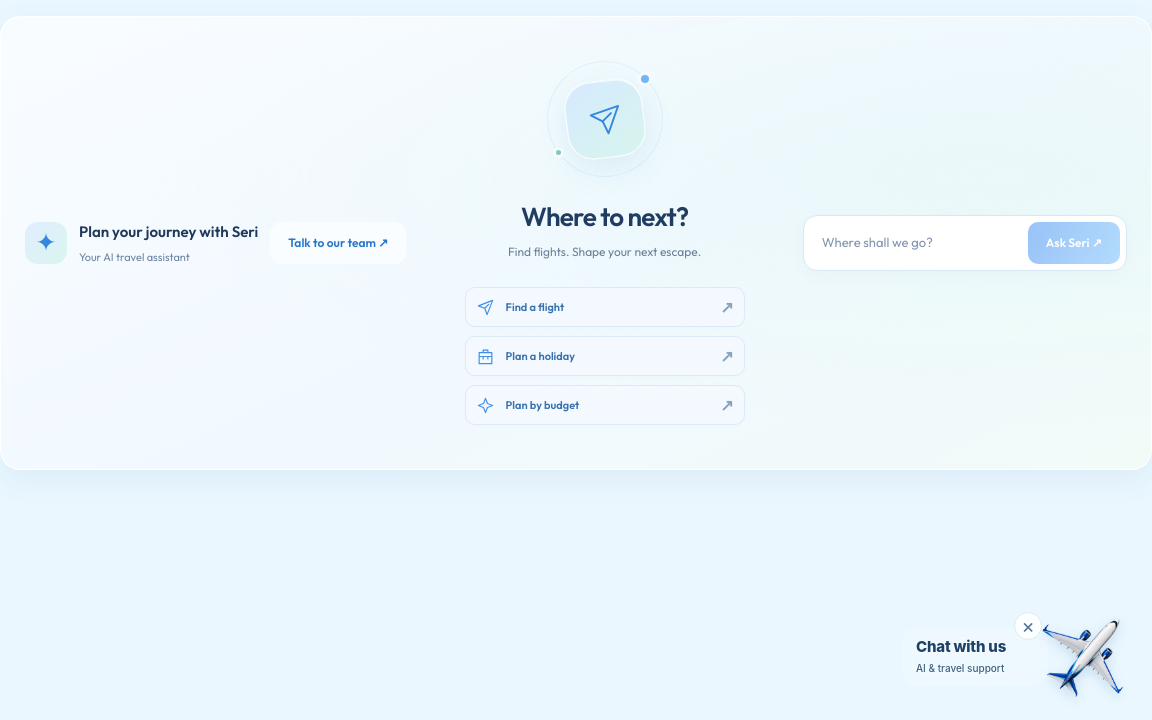
Test case: homepage Seri conversation › dismisses the invitation for this tab while retaining the aircraft chat button
This screenshot has width=1152, height=720.
Click the button named "Hide chat invitation" at (1028, 626), box [1014,612,1042,640]
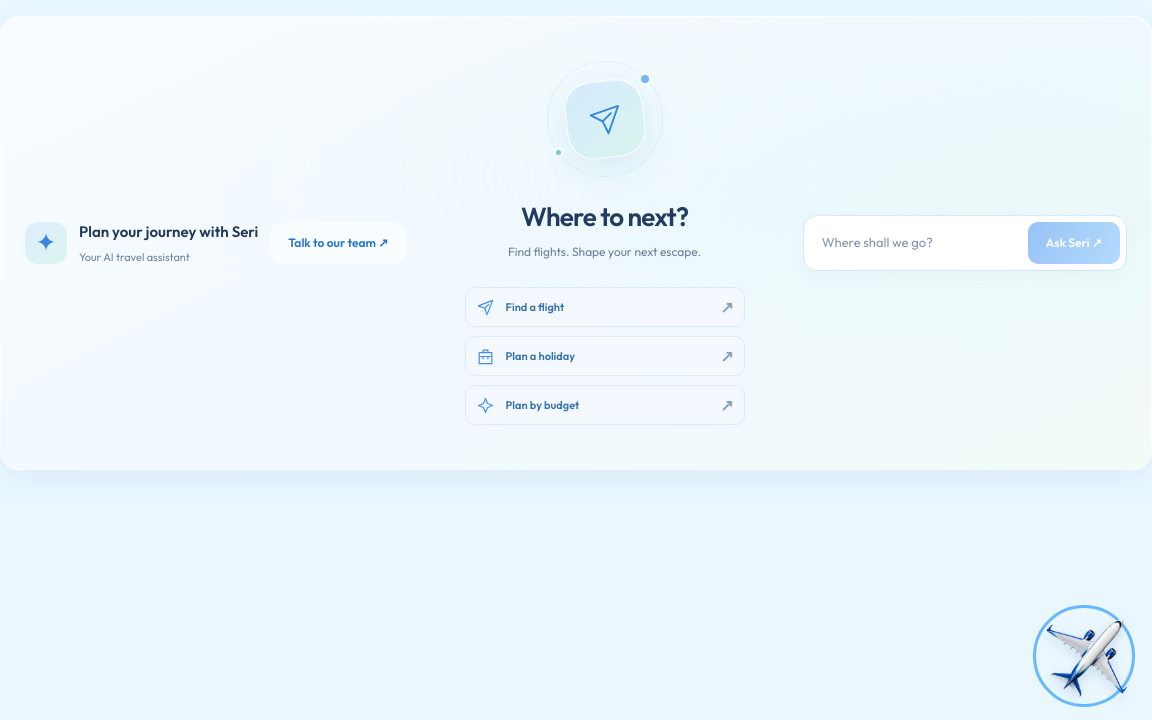
Check: the text "AI & travel support" is gone
Click the button named "Chat with us" at (1084, 656), box [1040,612,1128,700]
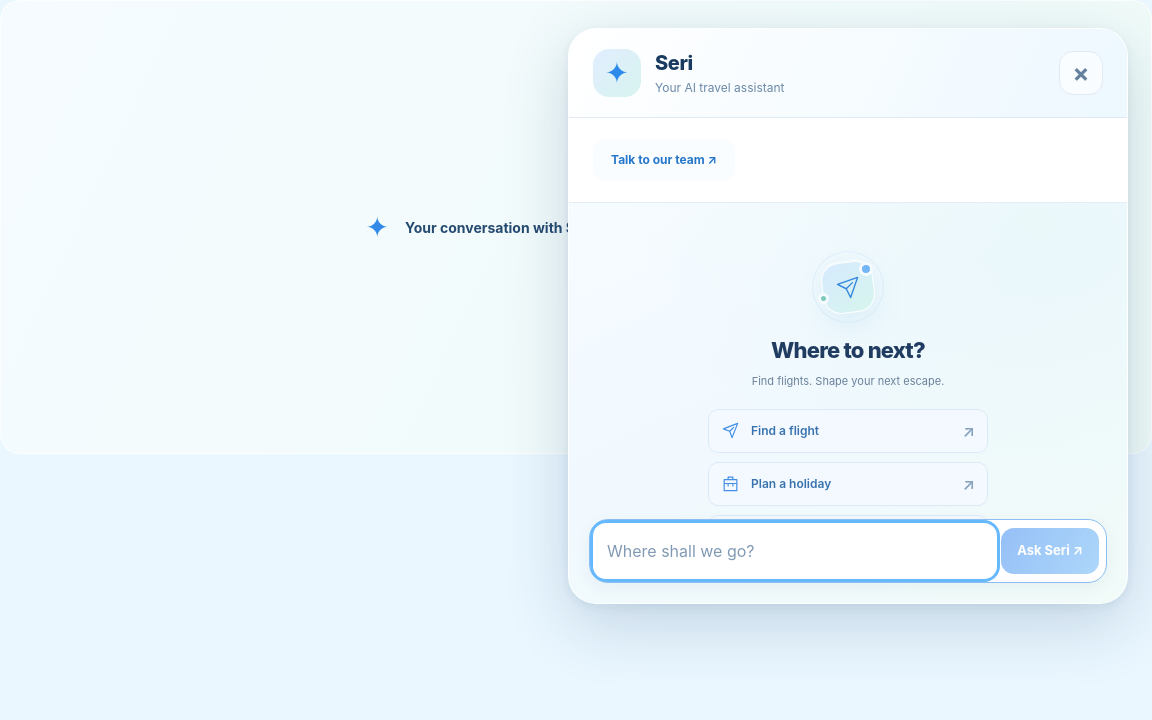
Check: the dialog "Seri" is shown, box [568,28,1128,604]
